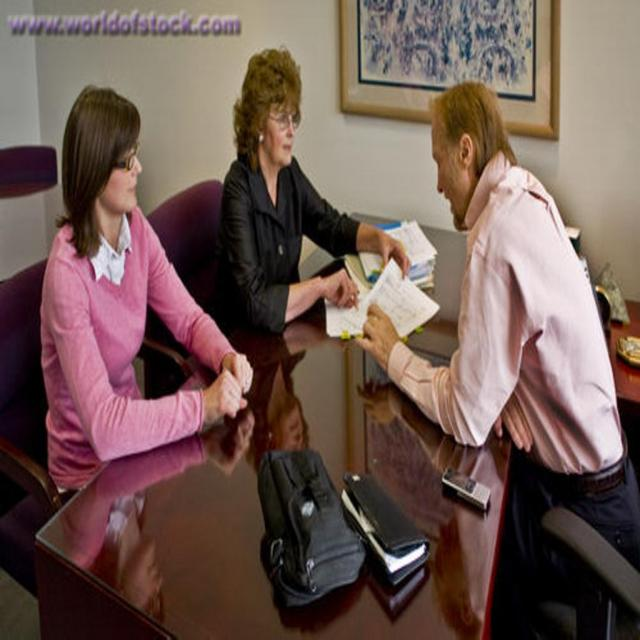nomask: (430, 110, 475, 228), (98, 114, 142, 217), (266, 76, 299, 165)
